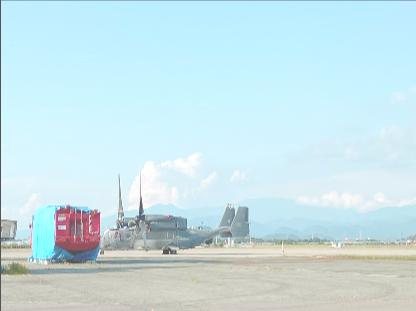Tornado: (99, 164, 251, 254)
